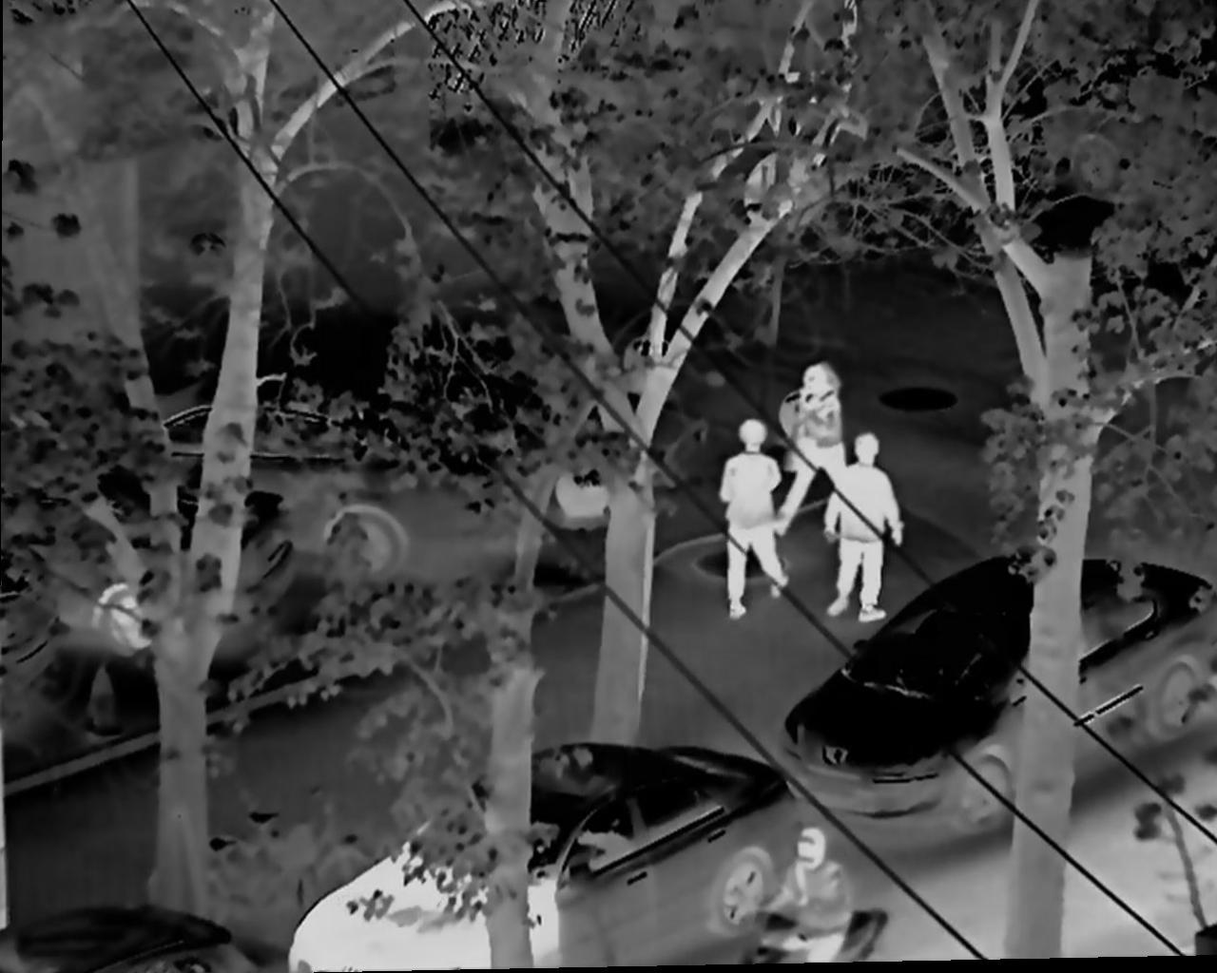person: (712, 419, 788, 614), (818, 427, 893, 623), (777, 349, 852, 540), (756, 823, 857, 964)
